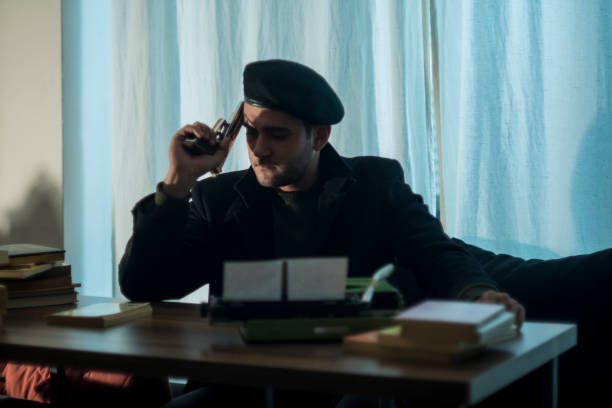gun: (178, 101, 246, 176)
